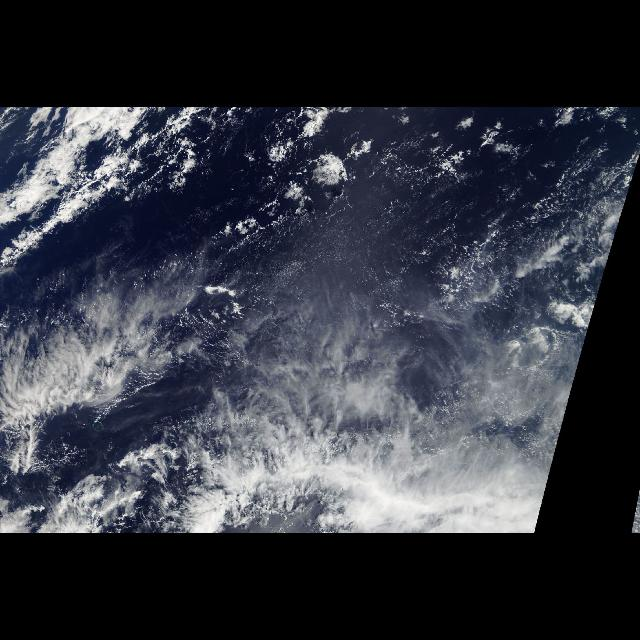Fish: (6, 296, 568, 534), (4, 108, 208, 252)
Gravel: (391, 160, 634, 408)
Sugar: (254, 216, 578, 452)
